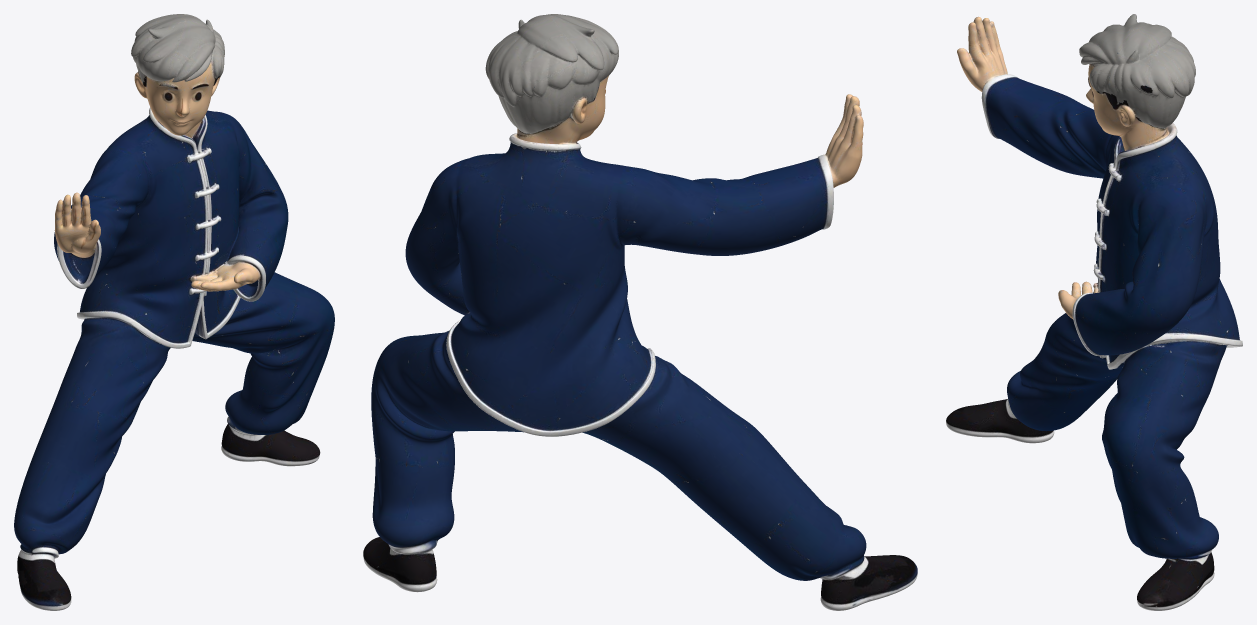
File: tai-chi-stance.glb
3 renders of one model, left to right at view 1: azimuth 30°, elevation 25°; view 2: azimuth 150°, elevation 25°; view 3: azimuth 270°, elevation 25°, orthographic. The views are drawn at different scales.
Parts seen in each view (by area): view 1: Meshy_AI_Tai_Chi_Stance_0528191059_texture.obj; view 2: Meshy_AI_Tai_Chi_Stance_0528191059_texture.obj; view 3: Meshy_AI_Tai_Chi_Stance_0528191059_texture.obj.
Boxes of the visible parts, x1=… form: Meshy_AI_Tai_Chi_Stance_0528191059_texture.obj: x1=14, y1=14, x2=334, y2=610; Meshy_AI_Tai_Chi_Stance_0528191059_texture.obj: x1=363, y1=14, x2=917, y2=610; Meshy_AI_Tai_Chi_Stance_0528191059_texture.obj: x1=946, y1=14, x2=1242, y2=610.
Size of the model in its own units: 0.3898 by 0.4748 by 0.2512.
1 material, 1 textured.
